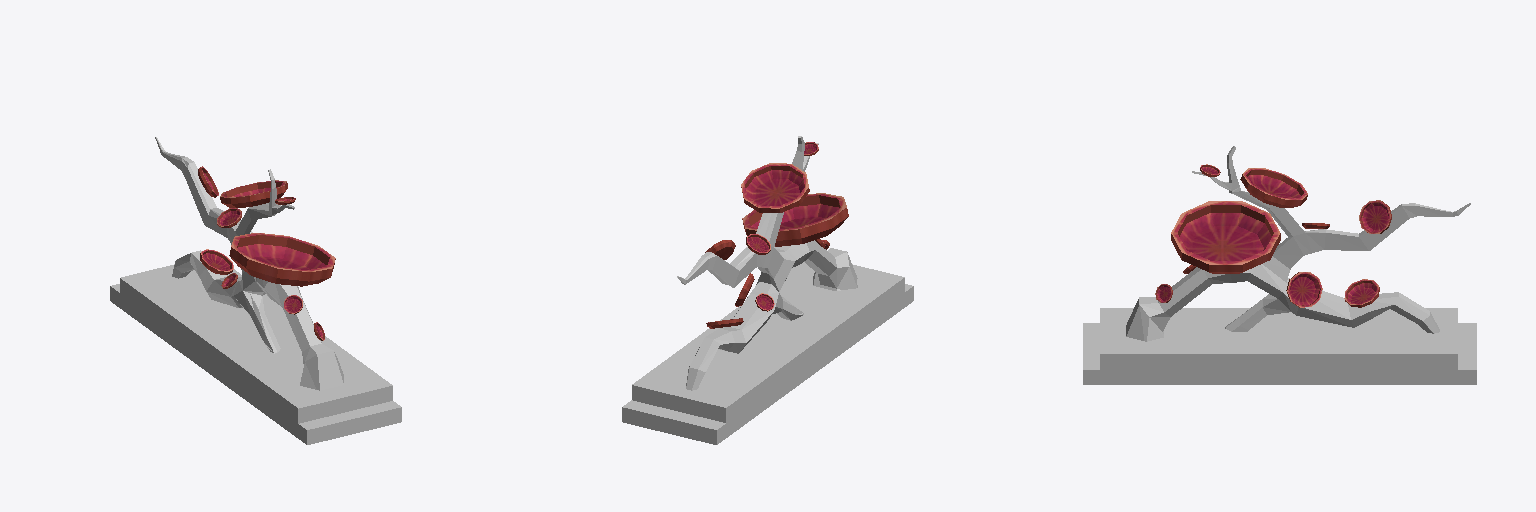
The picture shows the model from 3 angles: view 1: azimuth 30°, elevation 25°; view 2: azimuth 150°, elevation 25°; view 3: azimuth 270°, elevation 25°; orthographic projection.
Visible parts, largest first — view 1: Cube.001_Cube; view 2: Cube.001_Cube; view 3: Cube.001_Cube.
Part boxes in pixels (x1,y1,x2,y2): Cube.001_Cube: (110, 137, 401, 444); Cube.001_Cube: (622, 136, 913, 444); Cube.001_Cube: (1083, 146, 1476, 384).
Size of the model in its own units: 3.05 by 6.52 by 11.02.
22 materials, 2 textured.